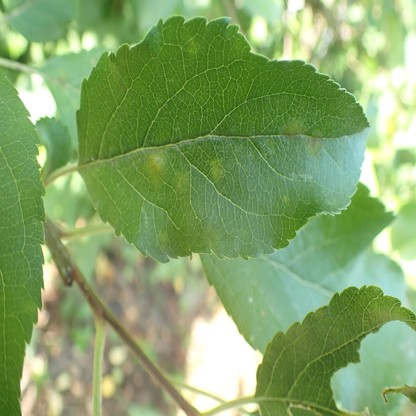scab: (144, 150, 168, 182), (307, 131, 326, 159), (282, 120, 303, 140), (176, 169, 190, 197), (202, 225, 218, 247), (209, 159, 224, 181), (183, 35, 199, 52), (288, 172, 314, 182), (155, 230, 168, 249), (141, 207, 150, 232)
